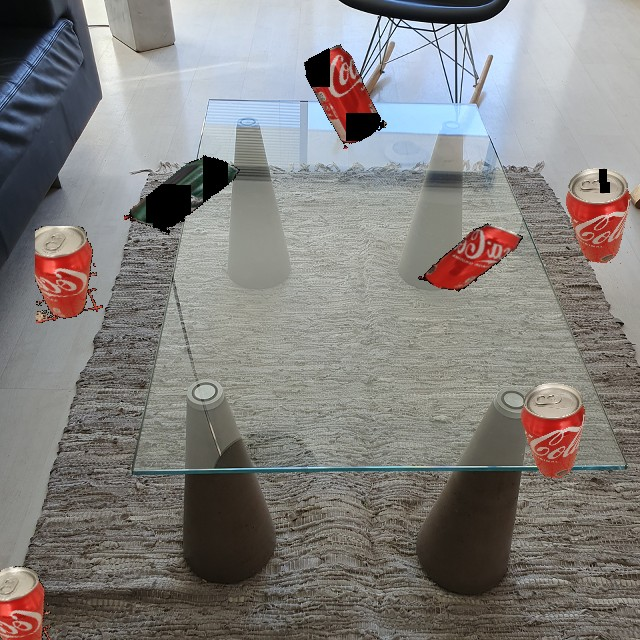coca cola: (417, 200, 527, 316), (299, 41, 388, 149), (35, 226, 104, 323), (520, 383, 586, 479), (565, 168, 631, 264), (0, 560, 59, 640)
schweppes: (124, 134, 244, 254)
